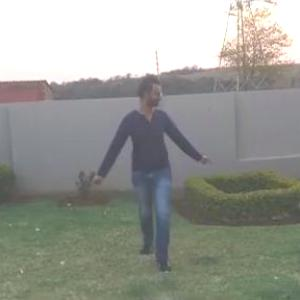land: (73, 68, 226, 281)
